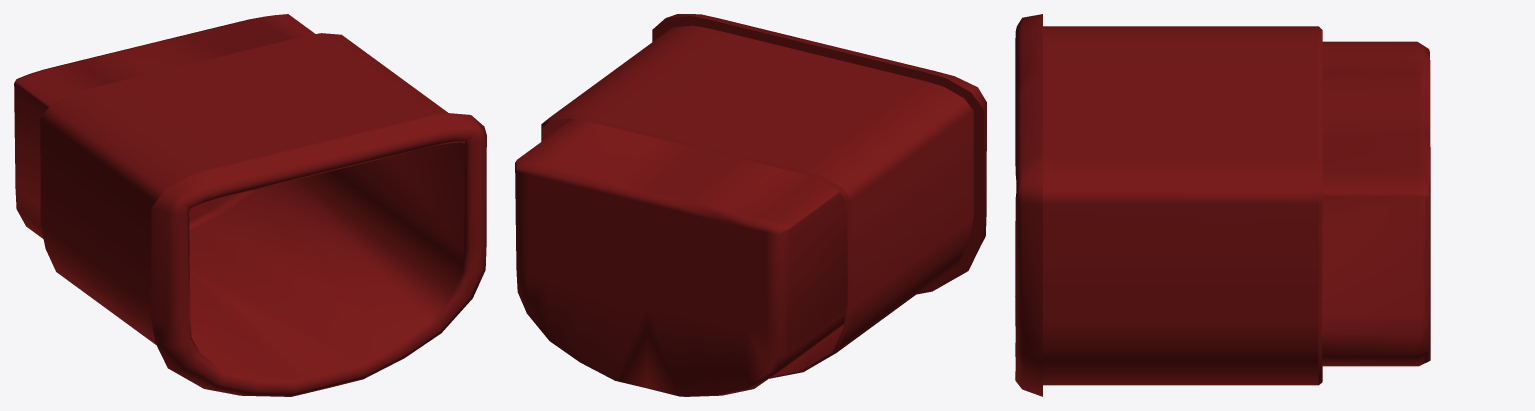
Rendered from MeshBin_17_0_GeomSubset_0.obj.
3 views of the same model, side by side, from view 1: azimuth 30°, elevation 25°; view 2: azimuth 150°, elevation 25°; view 3: azimuth 270°, elevation 25° (orthographic). The views are drawn at different scales.
Visible parts, largest first — view 1: MeshBin_17_0_GeomSubset_0; view 2: MeshBin_17_0_GeomSubset_0; view 3: MeshBin_17_0_GeomSubset_0.
Part boxes in pixels (bbox=[...]): MeshBin_17_0_GeomSubset_0: bbox=[14, 14, 486, 396]; MeshBin_17_0_GeomSubset_0: bbox=[515, 14, 986, 396]; MeshBin_17_0_GeomSubset_0: bbox=[1015, 14, 1430, 396].
Size of the model in its own units: 0.5846 by 0.4074 by 0.6781.
